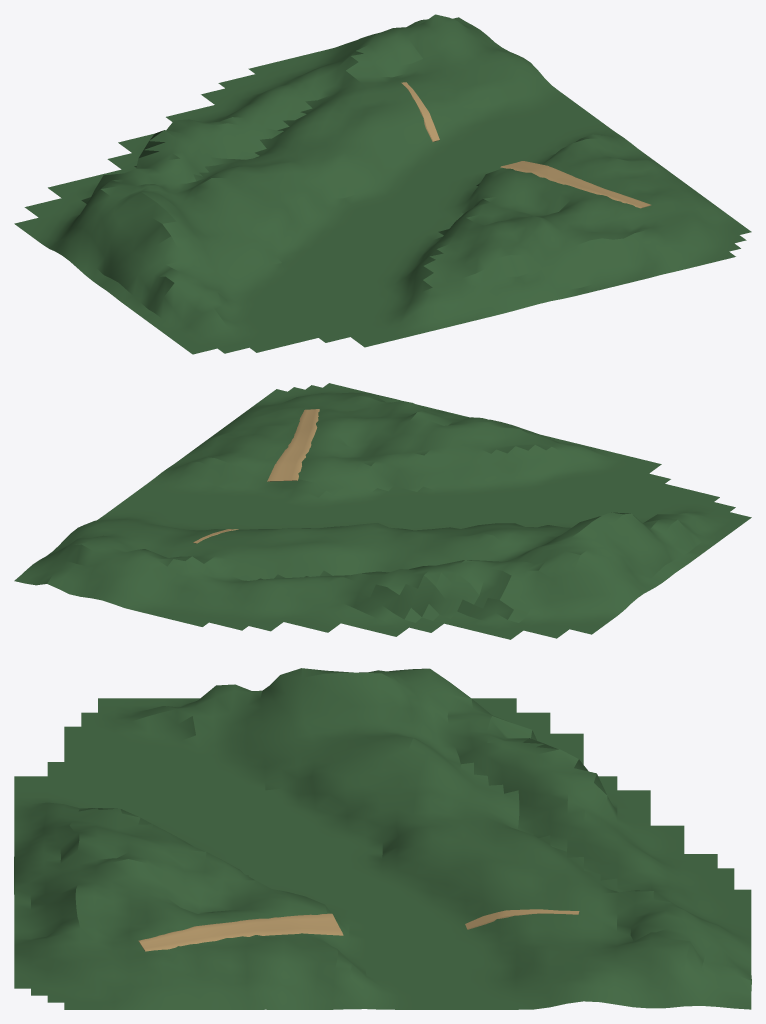
File: MainMenuGround.glb
3 renders of one model, top to bottom at view 1: azimuth 30°, elevation 25°; view 2: azimuth 150°, elevation 25°; view 3: azimuth 270°, elevation 25°, orthographic. The views are drawn at different scales.
Parts seen in each view (by area): view 1: Ground, Pathway; view 2: Ground, Pathway; view 3: Ground, Pathway.
Boxes of the visible parts, bbox=[...] form: Ground: bbox=[14, 14, 751, 354]; Pathway: bbox=[401, 82, 651, 208]; Ground: bbox=[14, 383, 751, 639]; Pathway: bbox=[193, 409, 319, 543]; Ground: bbox=[14, 668, 751, 1009]; Pathway: bbox=[138, 909, 579, 951].
Size of the model in its own units: 36.17 by 3.58 by 36.08.
